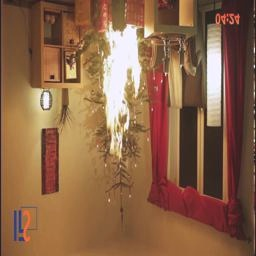fire: (103, 28, 147, 160)
